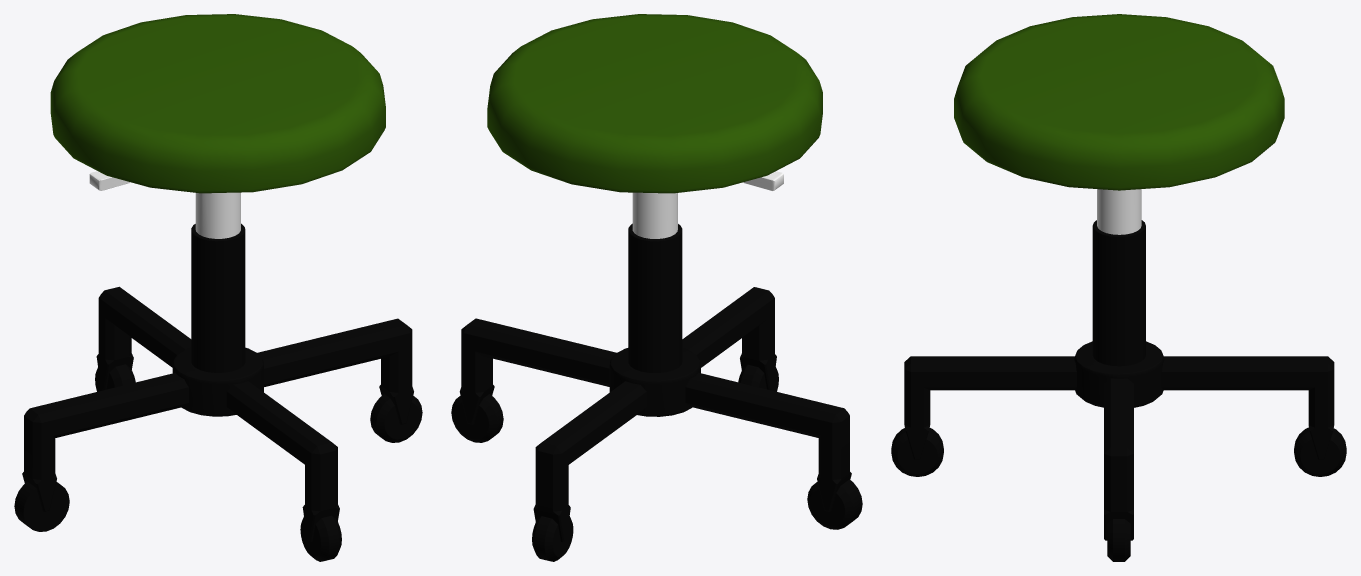
The model's file is Model_maruisu.fbx.
3 renders of one model, left to right at view 1: azimuth 30°, elevation 25°; view 2: azimuth 150°, elevation 25°; view 3: azimuth 270°, elevation 25°, orthographic. The views are drawn at different scales.
Visible parts, largest first — view 1: polySurface3; view 2: polySurface3; view 3: polySurface3.
Boxes of the visible parts, x1,y1,x2,y2 form: polySurface3: (14,14,422,561); polySurface3: (451,14,862,561); polySurface3: (891,14,1346,561).
Size of the model in its own units: 2.75 by 2.67 by 2.75.
